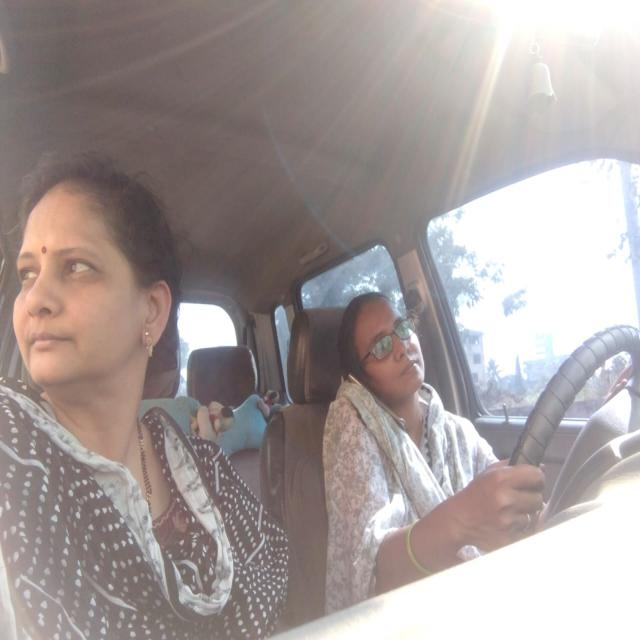person: (15, 174, 165, 383), (340, 292, 438, 397)
